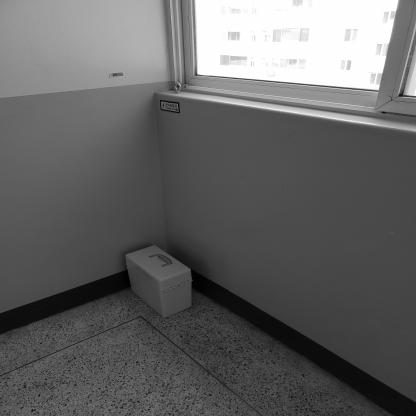DDL: (126, 246, 193, 318)
